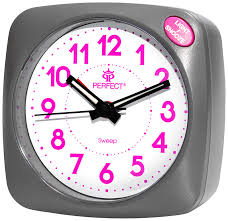alarm_clock: (7, 2, 224, 219)
